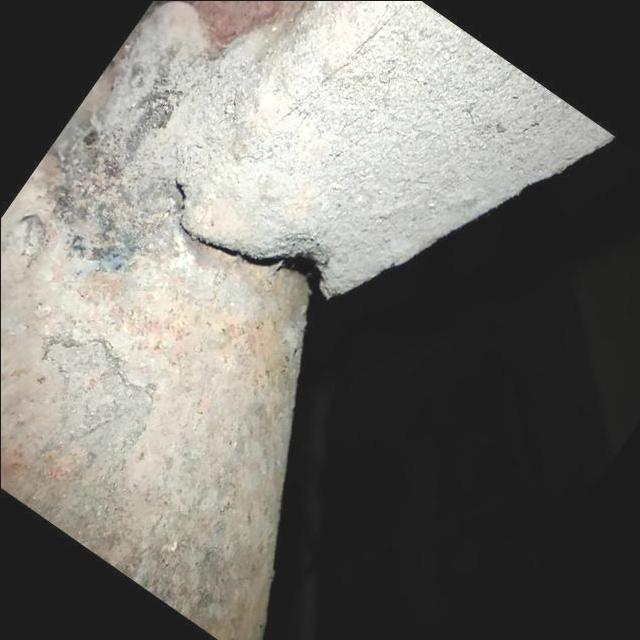defect: (167, 171, 336, 299)
